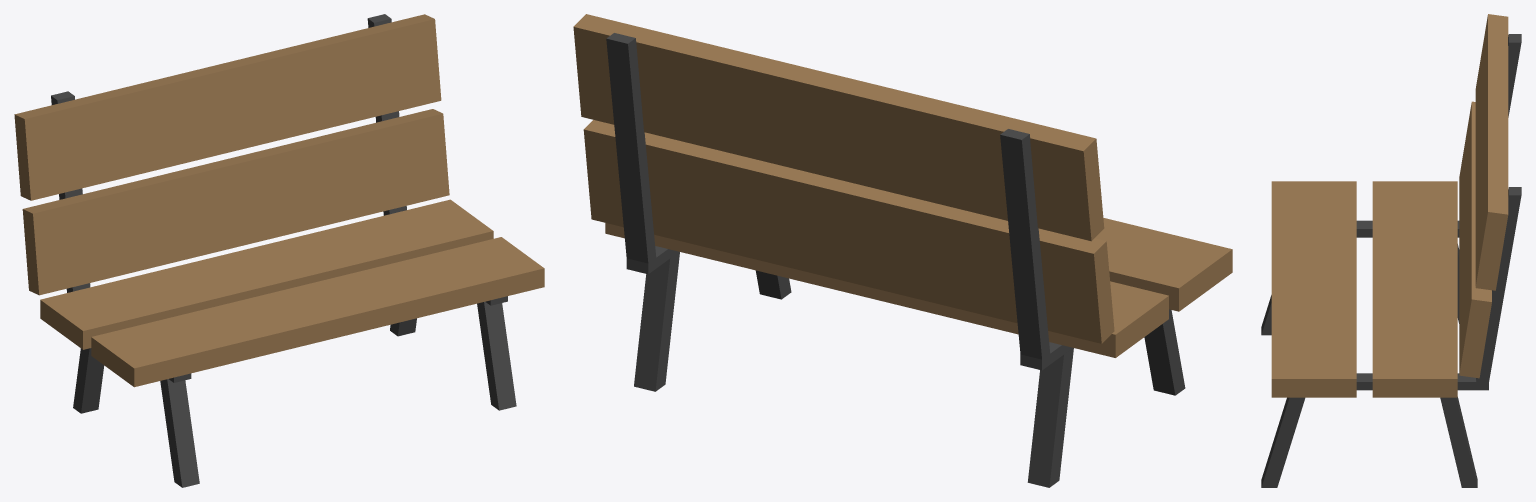
The model's file is Wooden bench.fbx.
3 renders of one model, left to right at view 1: azimuth 30°, elevation 25°; view 2: azimuth 150°, elevation 25°; view 3: azimuth 270°, elevation 25°, orthographic. The views are drawn at different scales.
Visible parts, largest first — view 1: Wooden bench; view 2: Wooden bench; view 3: Wooden bench.
Part boxes in pixels (bbox=[...]): Wooden bench: bbox=[14, 14, 544, 487]; Wooden bench: bbox=[573, 14, 1232, 487]; Wooden bench: bbox=[1261, 14, 1521, 487].
Size of the model in its own units: 1102 by 760 by 612.
